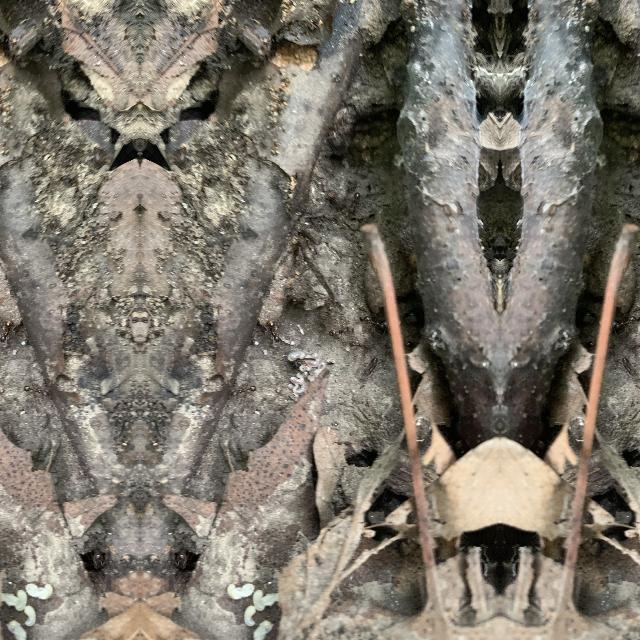Apheanogaster: (362, 312, 388, 338), (612, 312, 638, 338), (226, 382, 260, 400), (20, 382, 54, 400), (169, 546, 193, 570), (87, 546, 111, 570), (328, 321, 354, 342), (360, 354, 378, 378), (622, 354, 640, 378), (266, 318, 280, 346), (348, 188, 362, 216), (0, 318, 14, 346)
